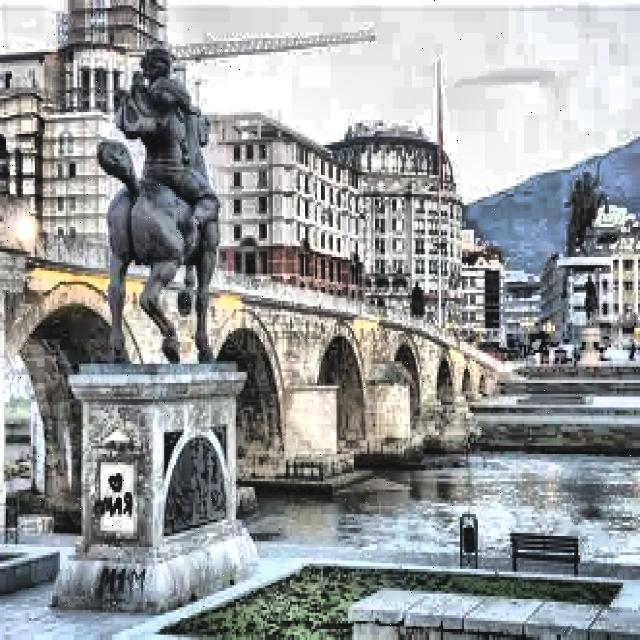alexander the great monument: (540, 156, 620, 362)
stone bridge: (0, 227, 515, 519)
